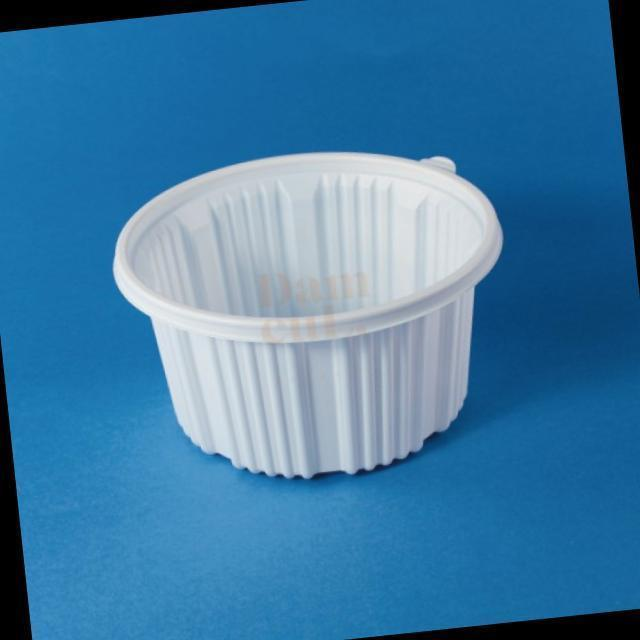disposable: (36, 130, 562, 476)
